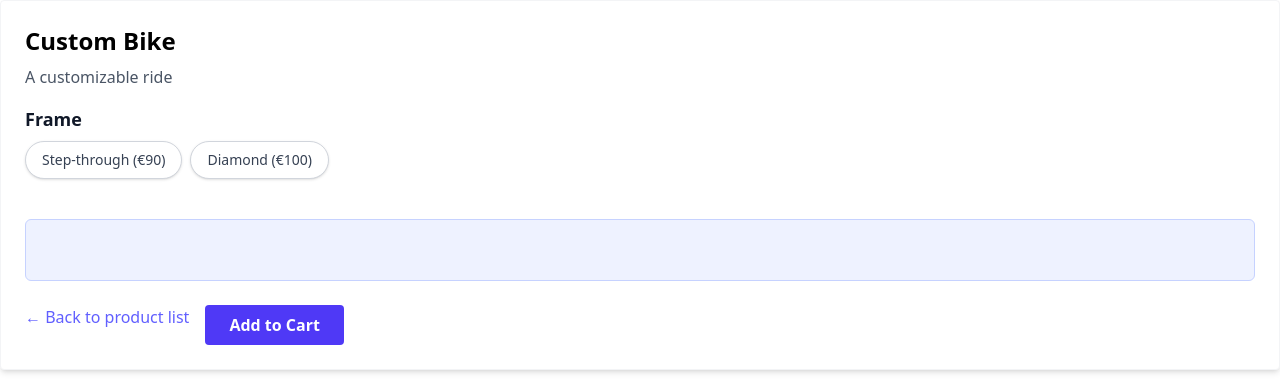
Test: ProductDetail › updates price when selecting options
The image size is (1280, 391).
Click the button "Diamond (€100)". click: click(260, 160)
box: [190,141,329,179]
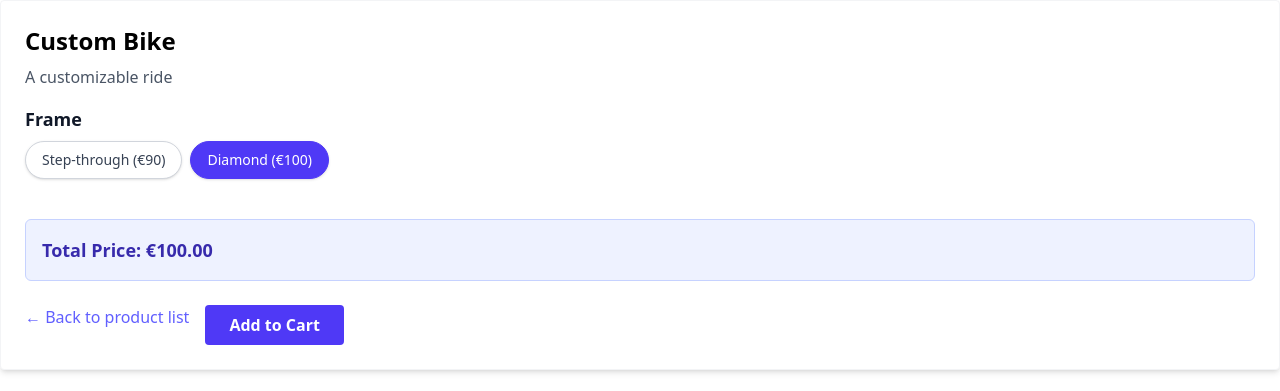
Check: the text "Total Price: €100.00" is shown, box [42,238,213,262]
